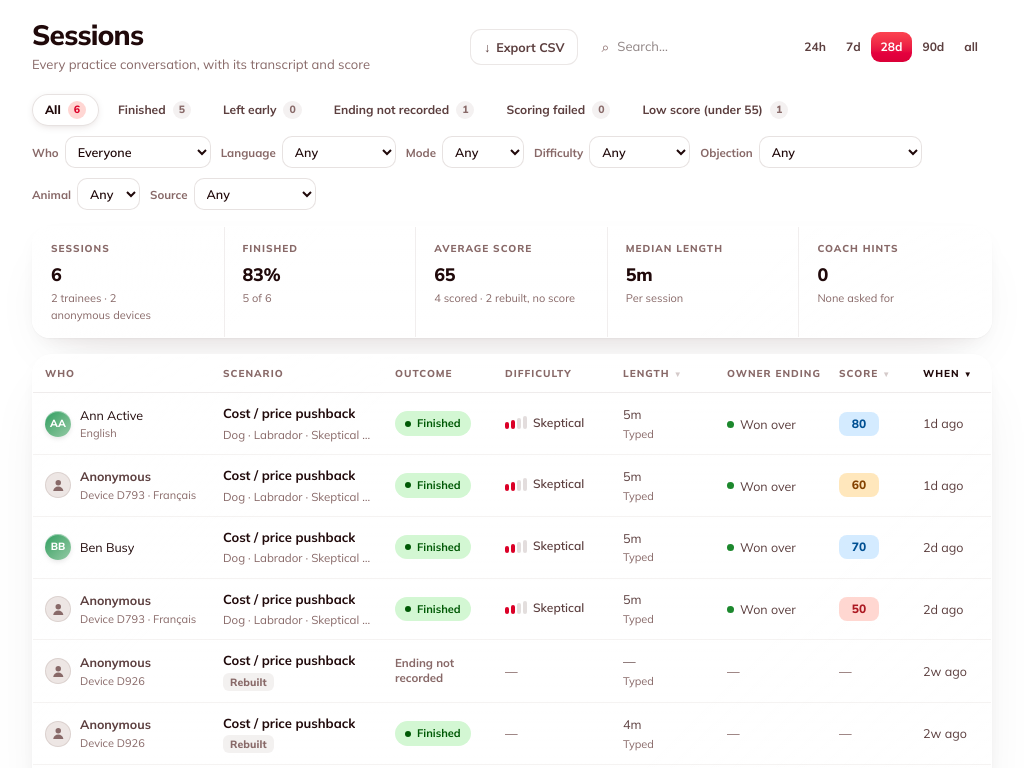
it: Sessions tab with anonymous practice › filters by language
Select "Français" in the dropdown labelled "Language": (339, 152) 282,136 -> 396,168
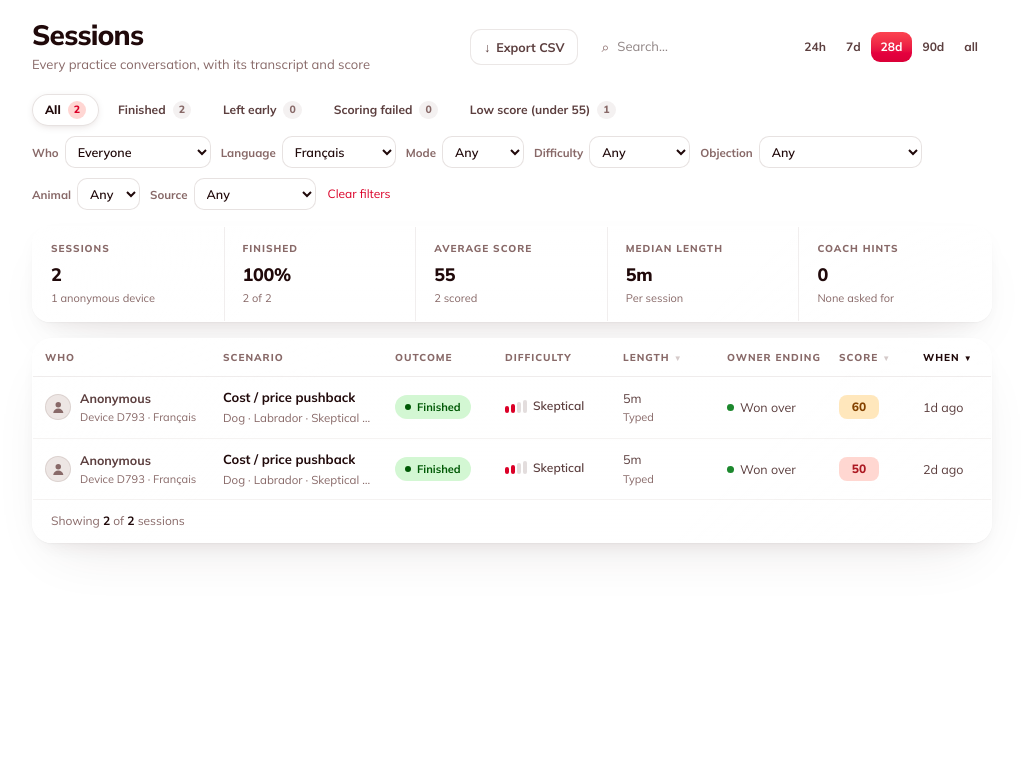
Expected: the text "1 anonymous device" is shown, 51,291 -> 155,305
Expected: the button "Ann Active" is gone
